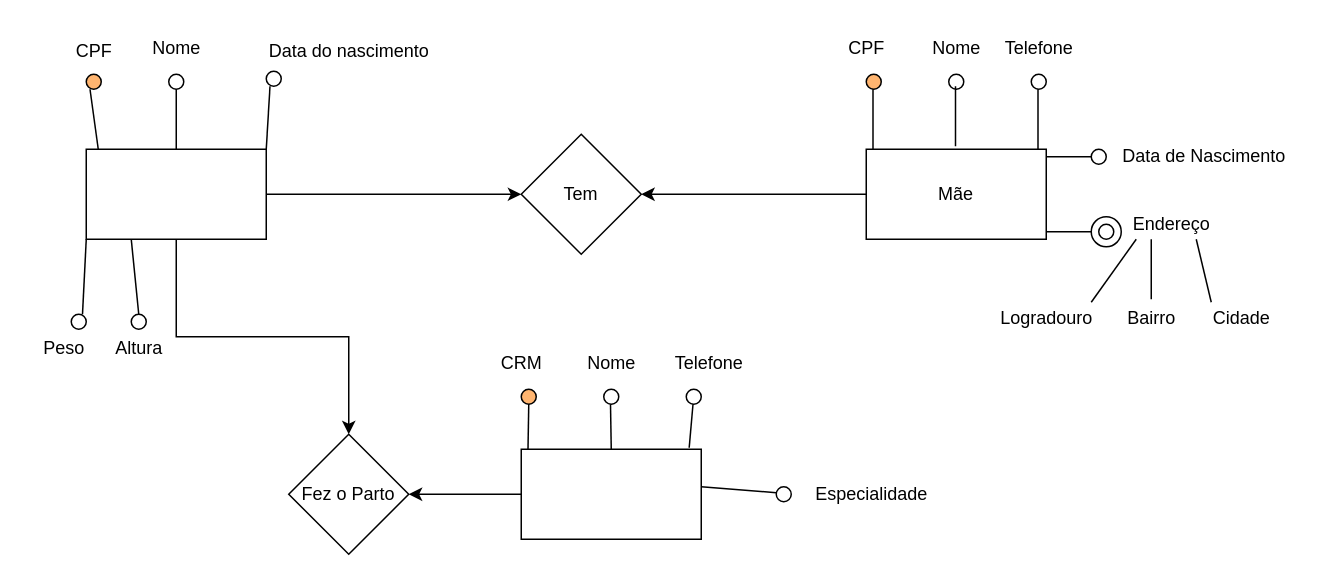
The diagram is 1326 pixels wide and 581 high, and some of its shapes have lost their labels. The shapes that lost their labels are listed below. From the top down, each one's centre as x and y in pixels, then its label:
At point 175,193: "Bebê".
At point 610,493: "Médico".
